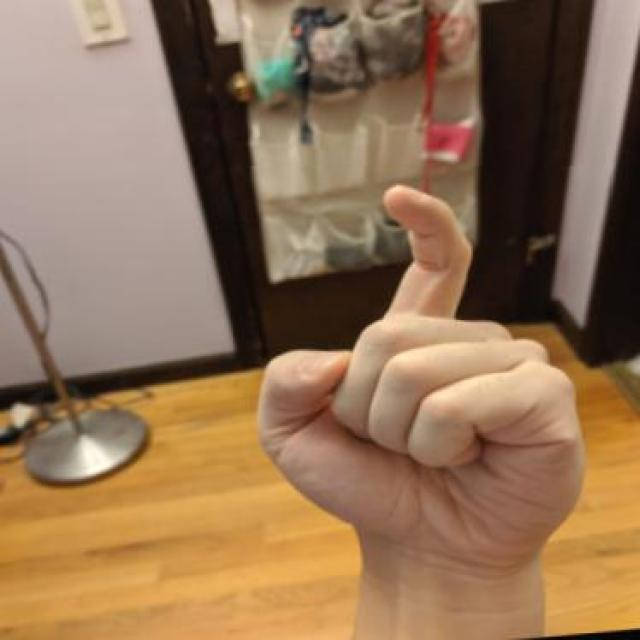X: (234, 166, 612, 592)
